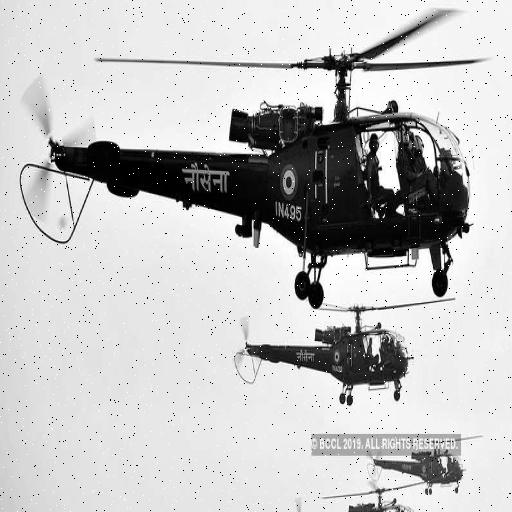helicopter: (26, 2, 474, 308), (234, 302, 457, 405), (370, 426, 470, 503), (302, 478, 418, 512)
